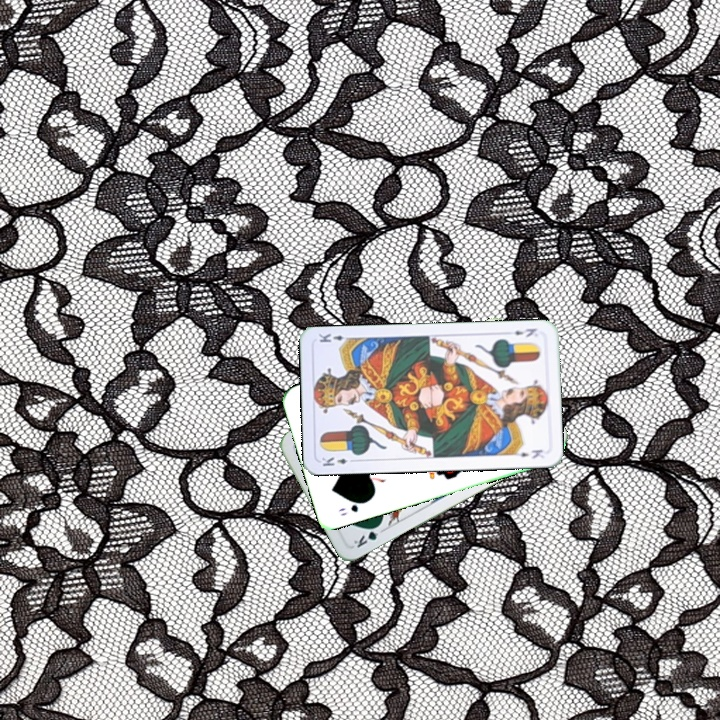EK: (318, 453, 358, 469), (510, 324, 539, 340)
GK: (350, 520, 387, 551)
GO: (334, 497, 370, 518)
